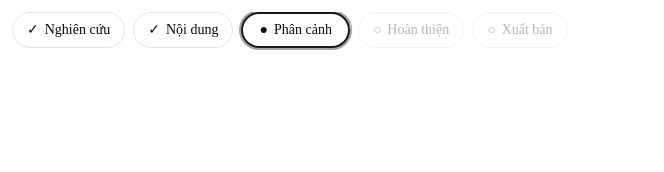
Scenario: PipelineStepper › BR-2: clicking a locked station shows a tooltip and does not navigate
Hover over the button "○ Hoàn thiện".
mouse_move(411, 30)  # box [358, 12, 464, 48]
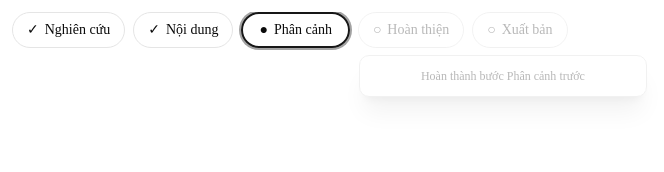
Expected: the tooltip shows "Hoàn thành bước", [421, 69, 507, 83]
